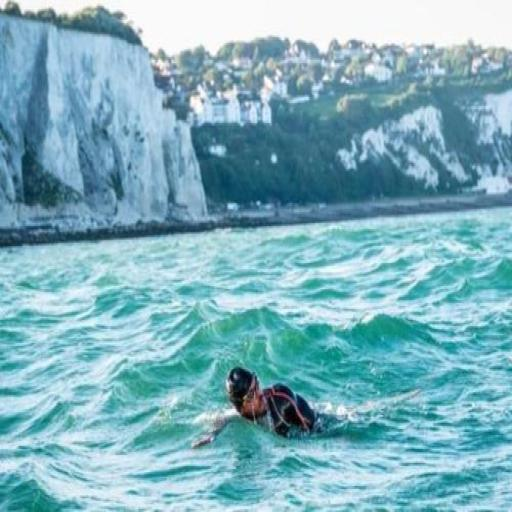swimming: (213, 306, 365, 482)
